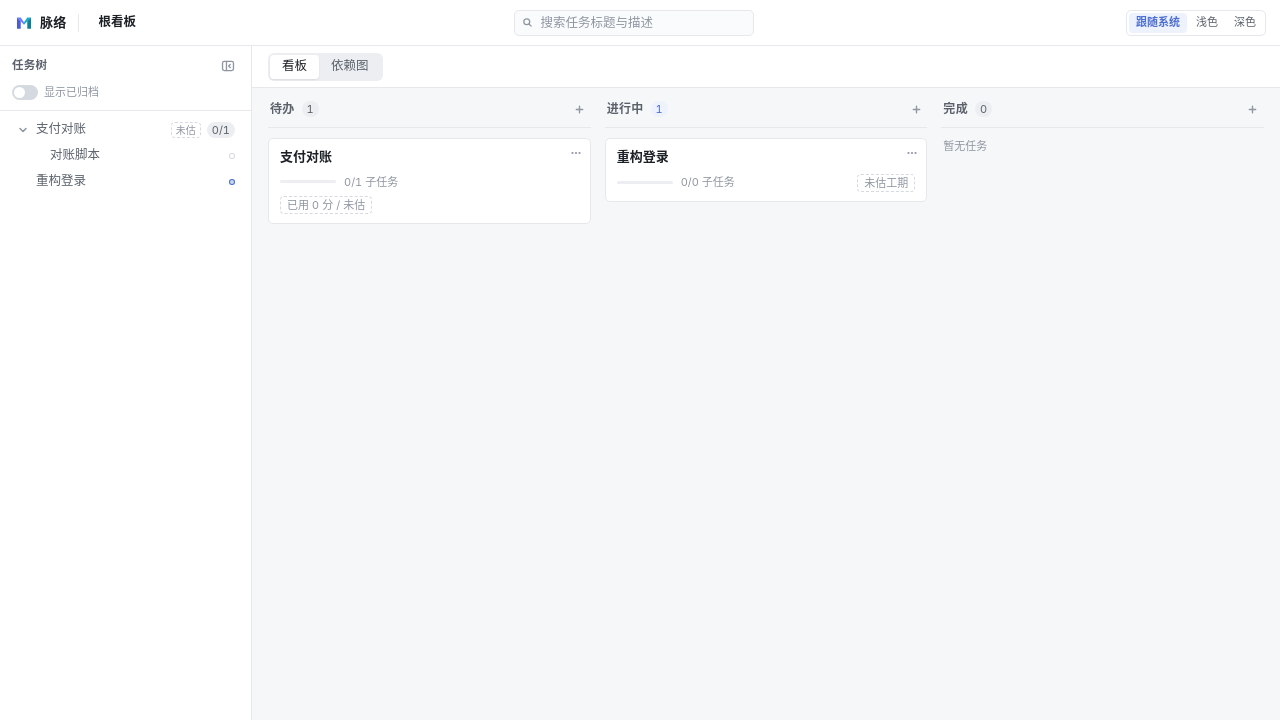
Test: App 增删改 › 从卡片的「⋯」按下之后再新建，看板同样要立刻显示（另一条按下起点）
This screenshot has width=1280, height=720.
Expected: the text "重构登录" is shown, [617,148,669,164]
Press the mouse on the button named "「重构登录」的更多操作" at [912, 153], box [902,143,922,163]
Click the button named "在「待办」新建任务" at [580, 109], box [571,100,589,118]
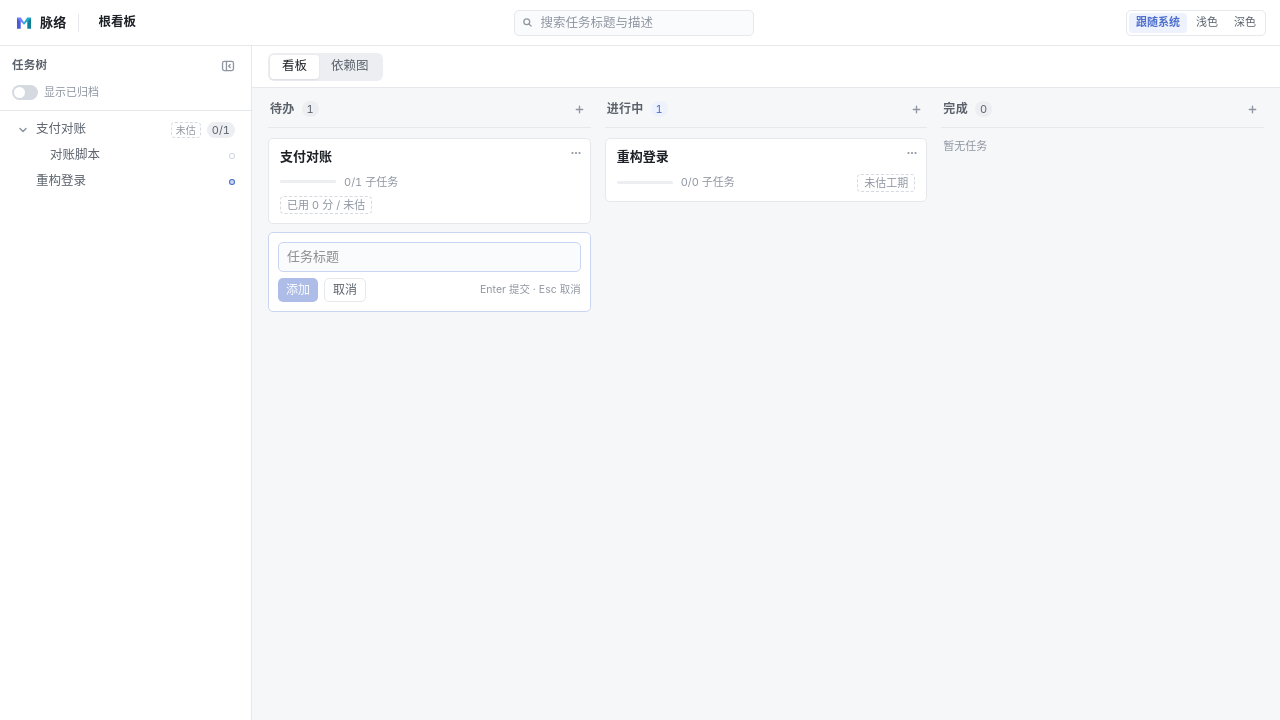
Type "补迁移测试" into the field named "在「待办」新建任务" at [429, 257], box [278,242,581,272]
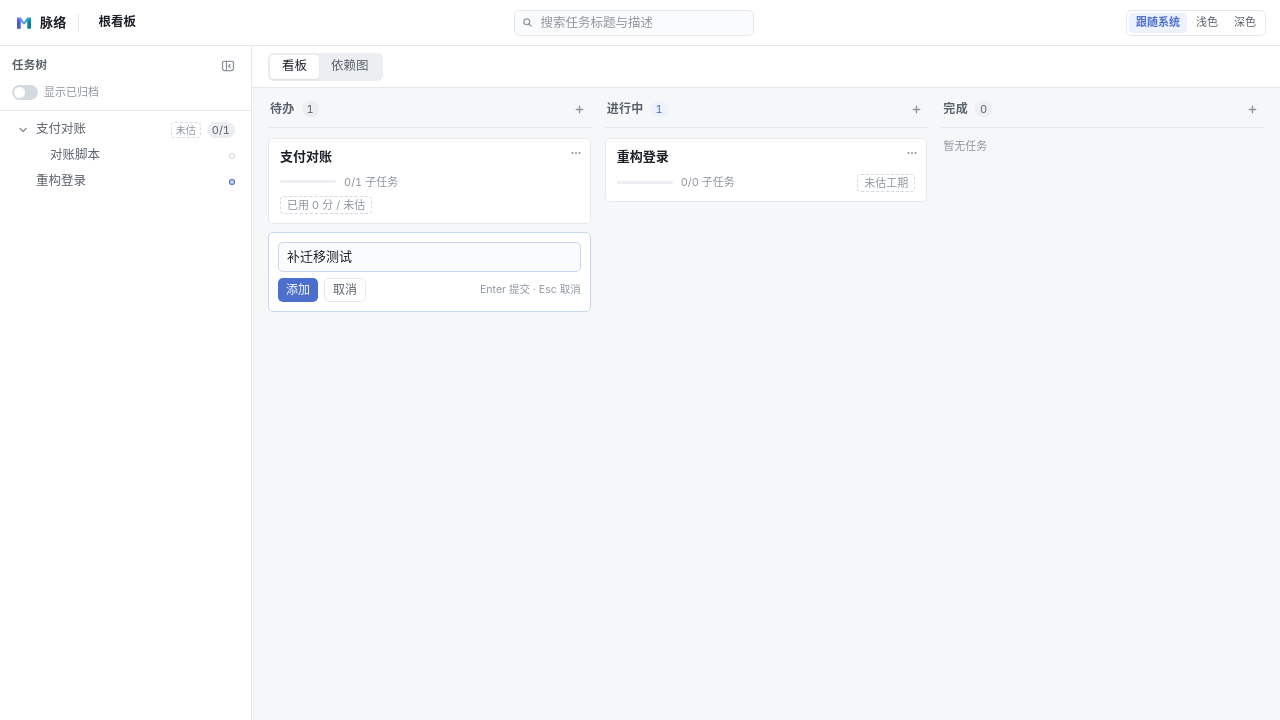
Submit the form named "在「待办」新建任务", box [268,232,591,312]
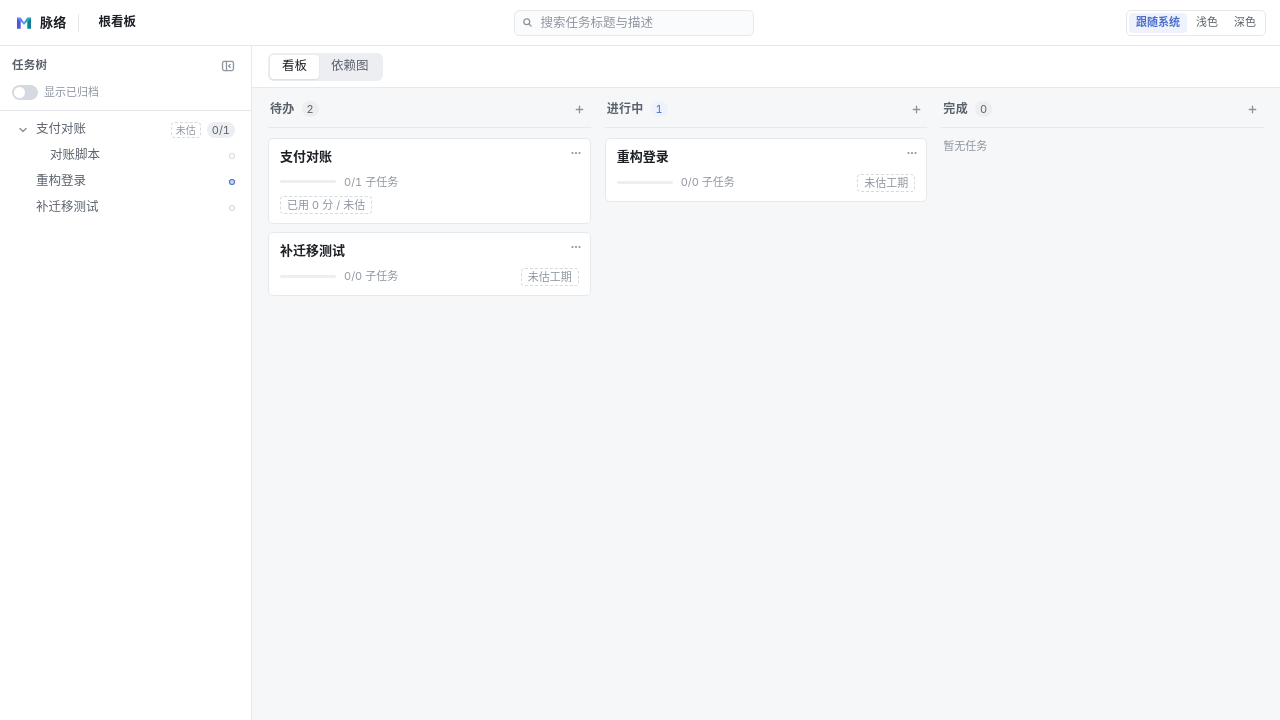
Now the text "补迁移测试" is shown, box [280,242,345,258]
